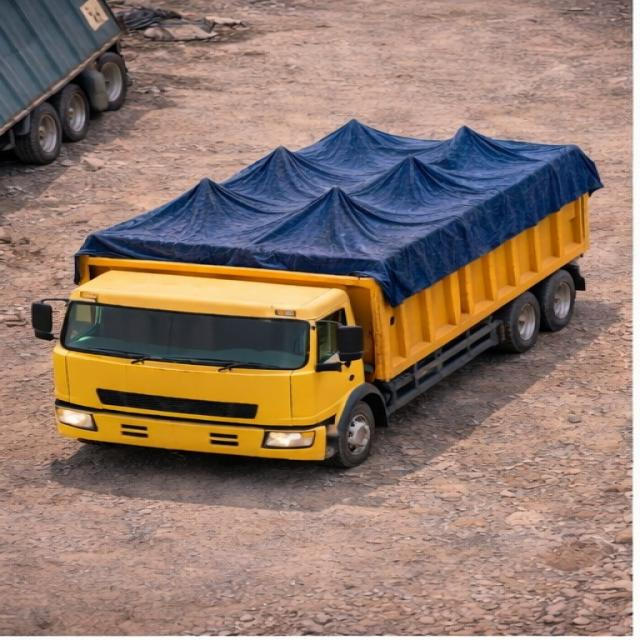trailer: (80, 119, 605, 267)
truck: (28, 104, 613, 468)
